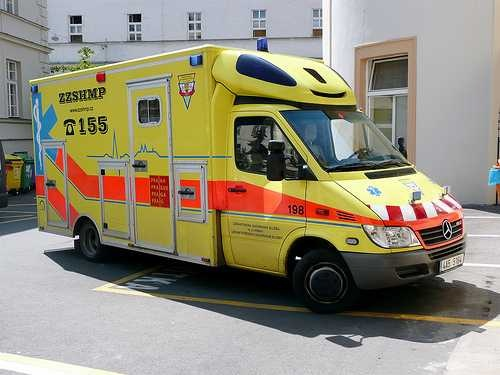Ambulance: (27, 50, 473, 324)
